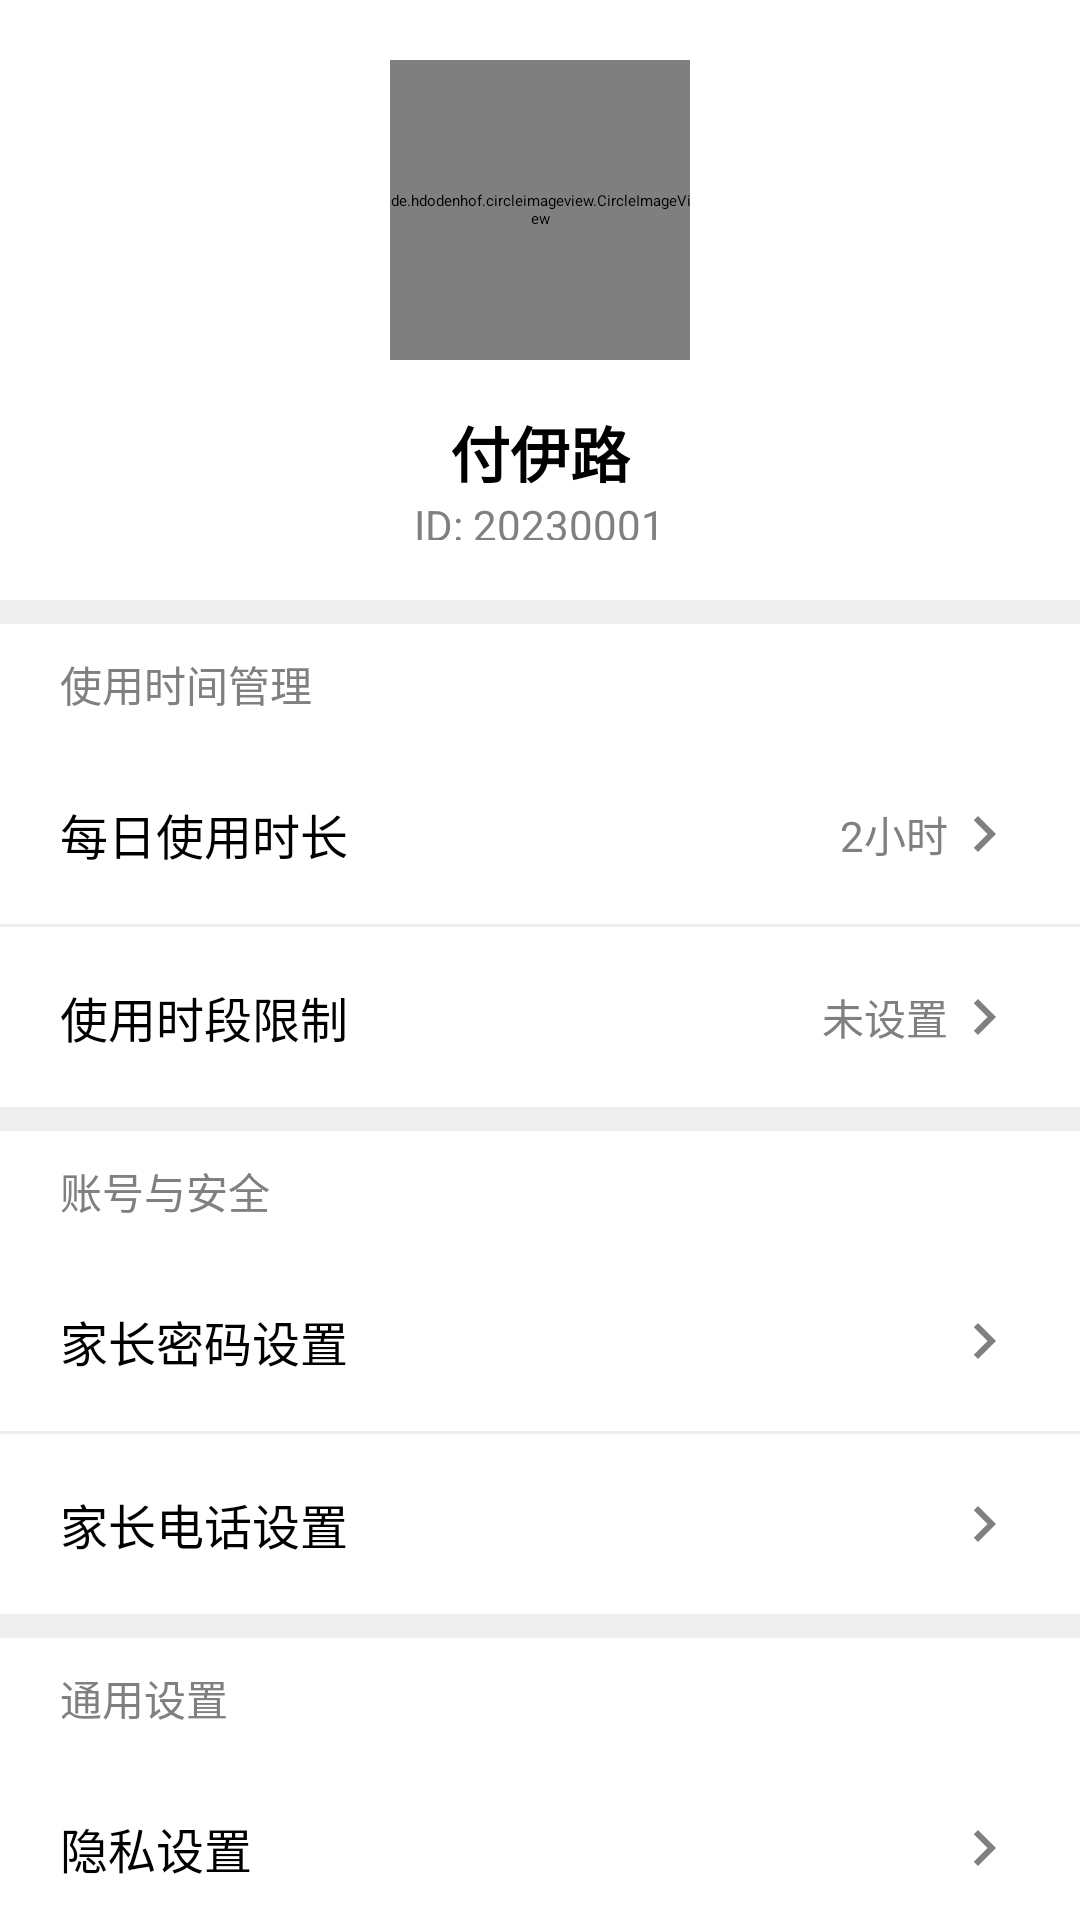

Point at icon controls on the screen. Image size 1080 × 1920, points as (x,y).
arrow right: (985,834), (985,1017), (985,1341), (985,1524), (985,1848)
